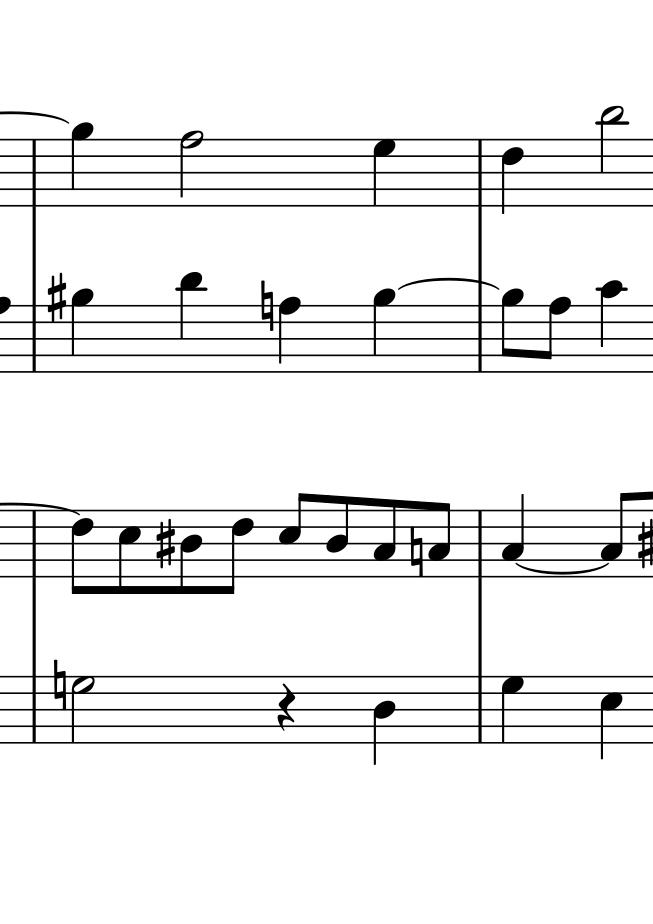2_11: (598, 104, 625, 208)
2_7: (70, 674, 94, 744)
2_8: (178, 128, 203, 208)
4_3: (501, 495, 525, 578)
4_4: (372, 675, 397, 766)
4_5: (598, 676, 624, 761)
4_6: (500, 137, 524, 214), (278, 294, 301, 374)
4_7: (500, 675, 525, 745), (372, 138, 397, 206)
4_9: (69, 286, 92, 376), (70, 121, 93, 207), (372, 288, 395, 374)
8_10: (598, 278, 624, 377)
8_11: (177, 268, 205, 376)
8_3: (598, 491, 631, 581), (372, 498, 398, 580), (427, 500, 452, 579)
8_4: (325, 495, 351, 580), (179, 508, 204, 596)
8_5: (277, 491, 310, 578), (116, 507, 142, 596)
8_6: (220, 508, 255, 598), (70, 509, 94, 597)
8_8: (538, 296, 571, 375)
8_9: (500, 288, 524, 373)
Natural: (409, 525, 427, 579), (259, 279, 275, 335), (52, 663, 67, 713)
Rests4: (275, 682, 297, 734)
Sharp: (154, 517, 176, 572), (45, 272, 67, 324)
Single_barline: (471, 139, 491, 205), (471, 305, 490, 370), (471, 510, 489, 576), (25, 140, 43, 205), (472, 675, 490, 740), (25, 306, 42, 371), (26, 677, 41, 741), (27, 512, 42, 575)
Slur: (397, 278, 503, 292), (515, 562, 608, 573)
